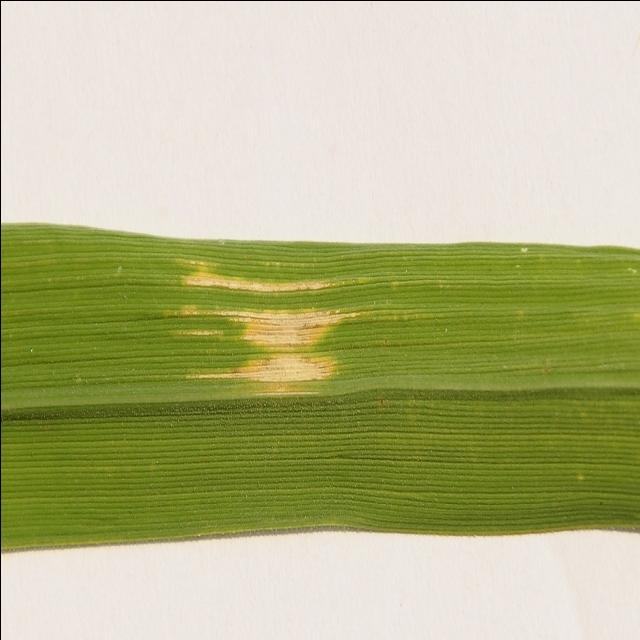Unhealthy: (175, 305, 360, 351), (184, 353, 338, 396), (181, 273, 344, 292), (180, 328, 219, 335), (176, 258, 206, 265)
